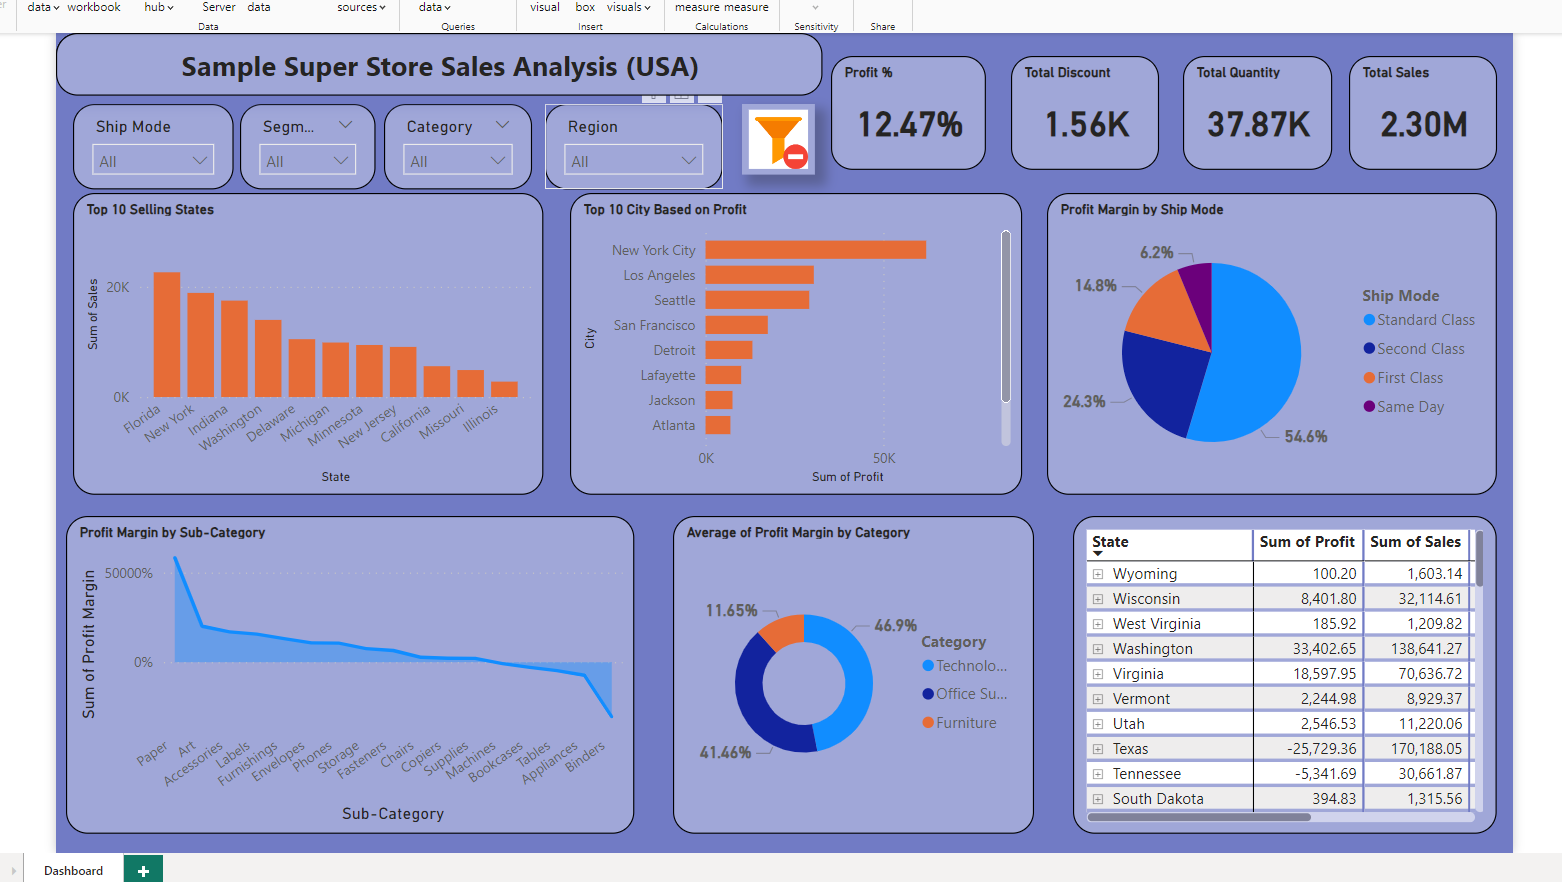

What the dashboard file says about the page in this screenshot:
{"tool":"powerbi","page":{"name":"Dashboard","canvas":[1280,720],"ordinal":0},"visuals":[{"type":"slicer","fields":{"Values":["SampleSuperstore (2).Ship Mode"]},"box":[14.9,62.3,141.4,74.6],"z":0},{"type":"slicer","fields":{"Values":["SampleSuperstore (2).Segment"]},"box":[161.6,62.3,118.5,74.6],"z":1000},{"type":"slicer","fields":{"Values":["SampleSuperstore (2).Category"]},"box":[288,62.3,130,74.6],"z":2000},{"type":"card","title":"Total Discount","fields":{"Values":["Sum(SampleSuperstore (2).Discount)"]},"box":[838.5,20.2,130,100.1],"z":3000},{"type":"card","title":"Total Quantity","fields":{"Values":["Sum(SampleSuperstore (2).Quantity)"]},"box":[989.6,20.2,130.8,100.1],"z":4000},{"type":"slicer","title":"Region","fields":{"Values":["SampleSuperstore (2).Region"]},"box":[429.4,62.3,156.3,74.6],"z":5000},{"type":"columnChart","title":"Top 10 Selling States","fields":{"Category":["SampleSuperstore (2).State"],"Y":["Sum(SampleSuperstore (2).Sales)"]},"box":[14.9,140.5,412.7,265.2],"z":6000},{"type":"donutChart","fields":{"Y":["Avg(SampleSuperstore (2).Profit Margin)"],"Category":["SampleSuperstore (2).Category"]},"box":[541.8,424.1,317,279.2],"z":7000},{"type":"actionButton","box":[0,0,100,40],"z":8000},{"type":"card","title":"Total Sales","fields":{"Values":["Sum(SampleSuperstore (2).Sales)"]},"box":[1135.3,20.2,130,100.1],"z":9000},{"type":"textbox","box":[0,0,673.5,55.3],"z":10000},{"type":"areaChart","title":"Profit Margin by Sub-Category","fields":{"Category":["SampleSuperstore (2).Sub-Category"],"Y":["Sum(SampleSuperstore (2).Profit Margin)"]},"box":[8.8,424.1,498.7,279.2],"z":11000},{"type":"card","title":"Profit %","fields":{"Values":["SampleSuperstore (2).Profit percent"]},"box":[680.5,20.2,136.1,100.1],"z":12000},{"type":"pivotTable","fields":{"Rows":["SampleSuperstore (2).Region","SampleSuperstore (2).State","SampleSuperstore (2).City"],"Values":["Sum(SampleSuperstore (2).Sales)","Sum(SampleSuperstore (2).Profit)","Sum(SampleSuperstore (2).Profit Margin)"]},"box":[907.9,413.6,372.3,279.2],"z":13000},{"type":"pieChart","title":"Profit Margin by Ship Mode","fields":{"Category":["SampleSuperstore (2).Ship Mode"],"Y":["Sum(SampleSuperstore (2).Profit Margin)"]},"box":[870.1,140.5,395.1,265.2],"z":14000},{"type":"barChart","title":"Top 10 City Based on Profit","fields":{"Category":["SampleSuperstore (2).City"],"Y":["Sum(SampleSuperstore (2).Profit)"]},"box":[451.3,140.5,396.9,265.2],"z":15000},{"type":"image","box":[602,62.7,63.6,61.8],"z":16000}]}

Visuals, with their boxes in screenshot pixels (x1, y1, x2, y2):
slicer - SampleSuperstore (2).Ship Mode: rect(58, 101, 222, 187)
slicer - SampleSuperstore (2).Segment: rect(228, 101, 366, 187)
slicer - SampleSuperstore (2).Category: rect(375, 101, 526, 187)
"Total Discount" card: rect(1014, 52, 1165, 168)
"Total Quantity" card: rect(1189, 52, 1341, 168)
"Region" slicer: rect(539, 101, 721, 187)
"Top 10 Selling States" columnChart: rect(58, 192, 537, 499)
donutChart - Avg(SampleSuperstore (2).Profit Margin) x SampleSuperstore (2).Category: rect(670, 521, 1038, 845)
actionButton: rect(41, 28, 157, 75)
"Total Sales" card: rect(1359, 52, 1509, 168)
textbox: rect(41, 28, 822, 93)
"Profit Margin by Sub-Category" areaChart: rect(51, 521, 630, 845)
"Profit %" card: rect(831, 52, 989, 168)
pivotTable - SampleSuperstore (2).Region x SampleSuperstore (2).State: rect(1095, 509, 1527, 833)
"Profit Margin by Ship Mode" pieChart: rect(1051, 192, 1509, 499)
"Top 10 City Based on Profit" barChart: rect(565, 192, 1025, 499)
image: rect(739, 101, 813, 173)
